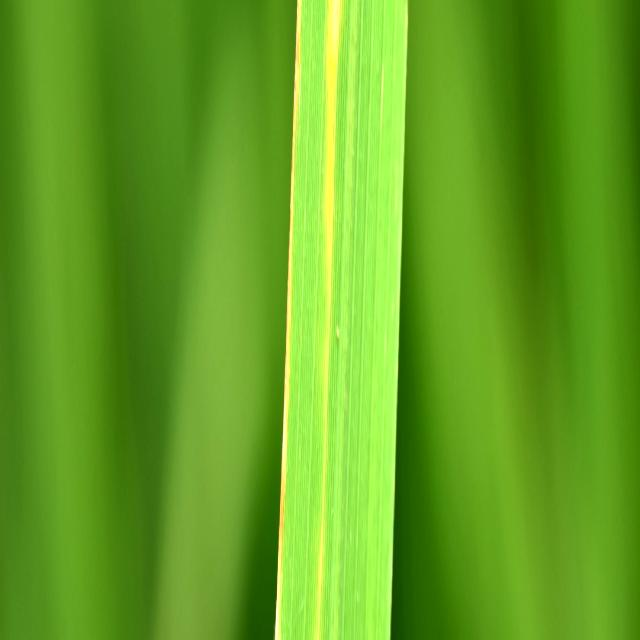BLB: (317, 0, 342, 628)
